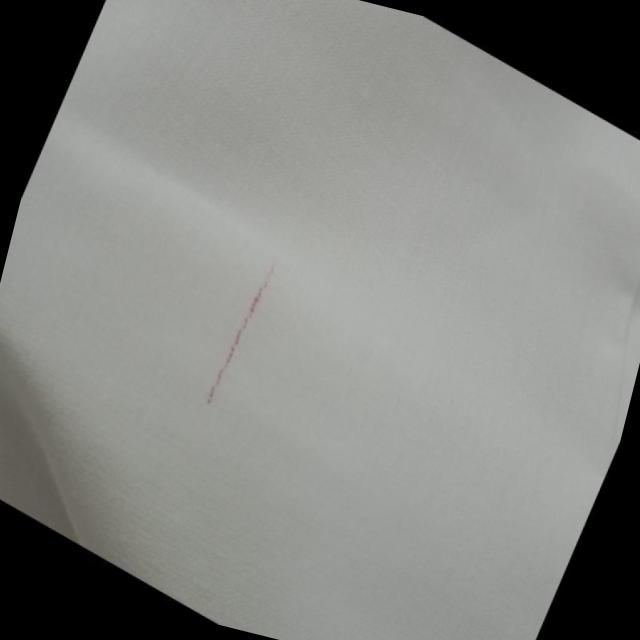contamination: (199, 243, 285, 424)
